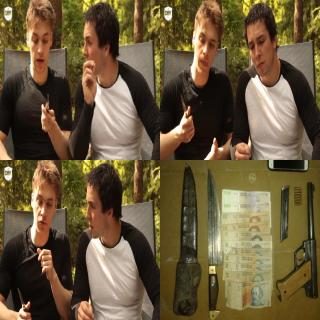knife: (204, 165, 224, 318), (176, 87, 194, 133), (15, 284, 31, 320), (40, 90, 51, 126)
